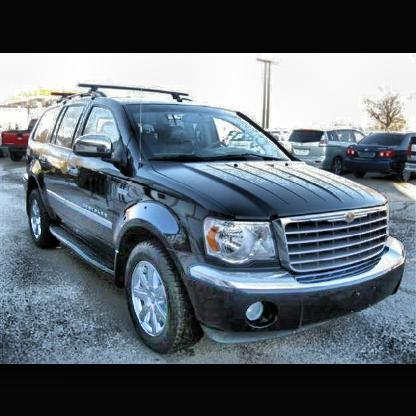Chrysler Aspen SUV 2009: (25, 84, 407, 360)
